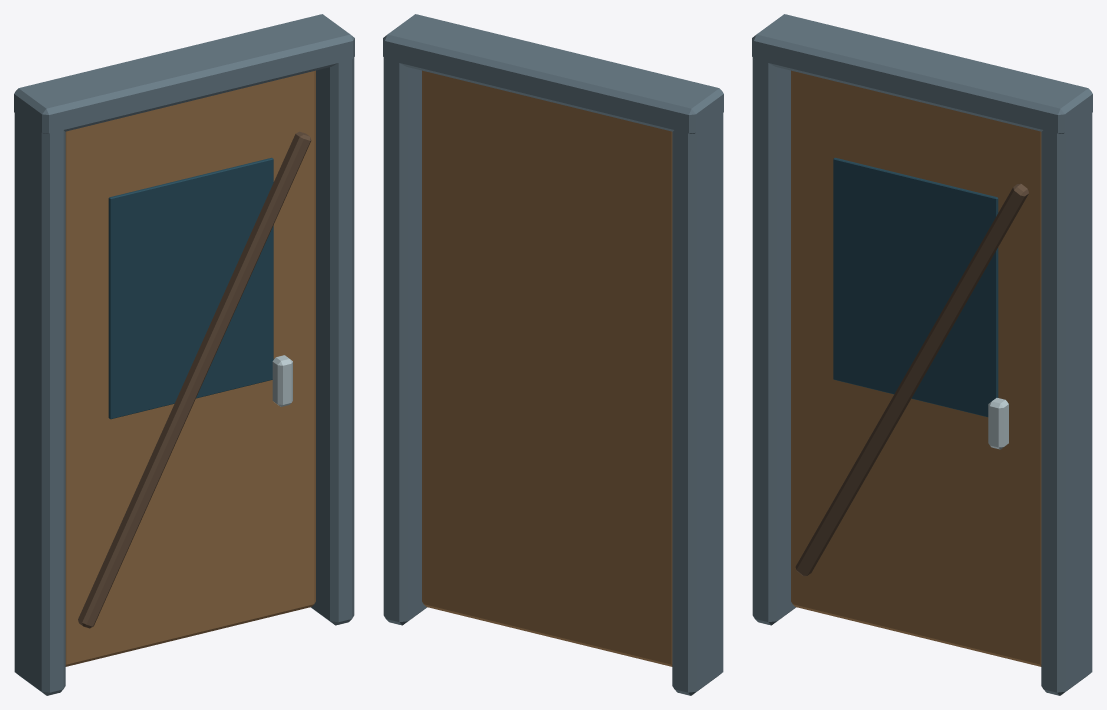
Rendered from objects-door-wood.lod0.glb.
3 renders of one model, left to right at view 1: azimuth 30°, elevation 25°; view 2: azimuth 150°, elevation 25°; view 3: azimuth 330°, elevation 25°, orthographic.
Visible parts, largest first — view 1: objects-door-wood__door, objects-door-wood__body; view 2: objects-door-wood__door, objects-door-wood__body; view 3: objects-door-wood__door, objects-door-wood__body.
Part boxes in pixels (x1,y1,x2,y2): objects-door-wood__door: (65,70,315,666); objects-door-wood__body: (14,14,354,695); objects-door-wood__door: (422,70,672,666); objects-door-wood__body: (383,14,723,695); objects-door-wood__door: (791,70,1041,666); objects-door-wood__body: (752,14,1092,695).
Size of the model in its own units: 1.42 by 2.55 by 0.26.
